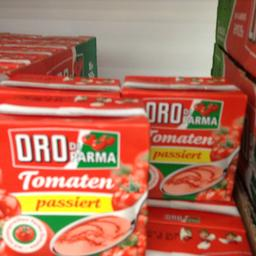tomato_sauce: (0, 92, 150, 254), (122, 71, 247, 202)
